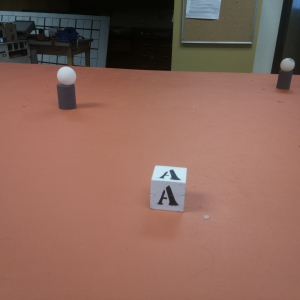blockA: (149, 162, 189, 212)
obstacle: (53, 68, 84, 112), (274, 55, 295, 90)
